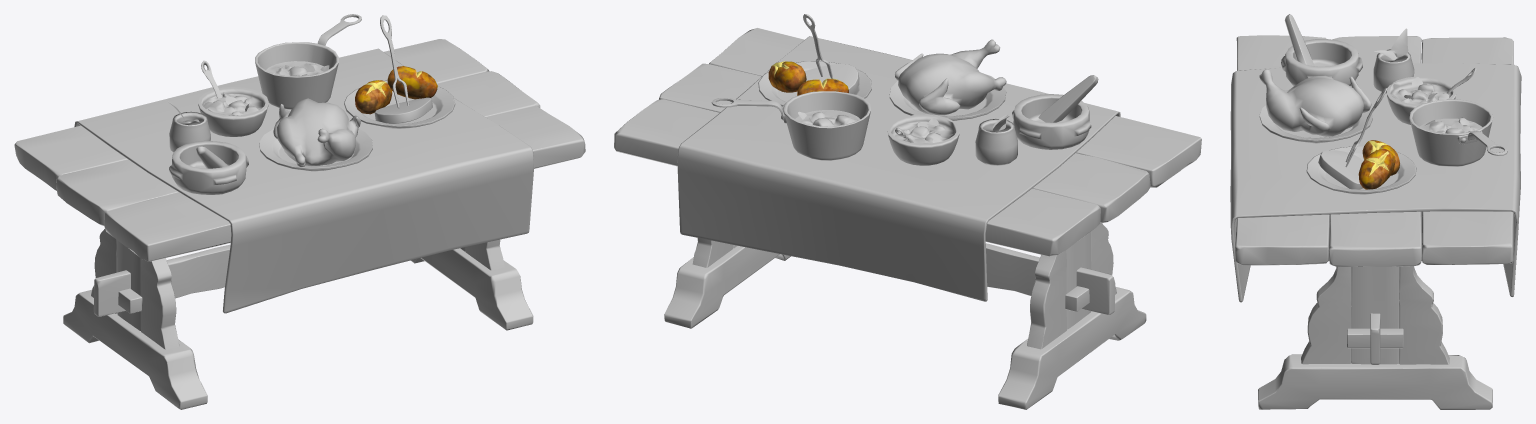
3 views of the same model, side by side, from view 1: azimuth 30°, elevation 25°; view 2: azimuth 150°, elevation 25°; view 3: azimuth 270°, elevation 25° (orthographic). The views are drawn at different scales.
Visible parts, largest first — view 1: SM_Dec_Kitchen_Banquet_Table_LOD0; view 2: SM_Dec_Kitchen_Banquet_Table_LOD0; view 3: SM_Dec_Kitchen_Banquet_Table_LOD0.
Part boxes in pixels (bbox=[...]): SM_Dec_Kitchen_Banquet_Table_LOD0: bbox=[14, 14, 585, 409]; SM_Dec_Kitchen_Banquet_Table_LOD0: bbox=[614, 14, 1201, 409]; SM_Dec_Kitchen_Banquet_Table_LOD0: bbox=[1230, 14, 1521, 409].
Bounding box in the file's own units: 2.23 × 1.36 × 1.28.
